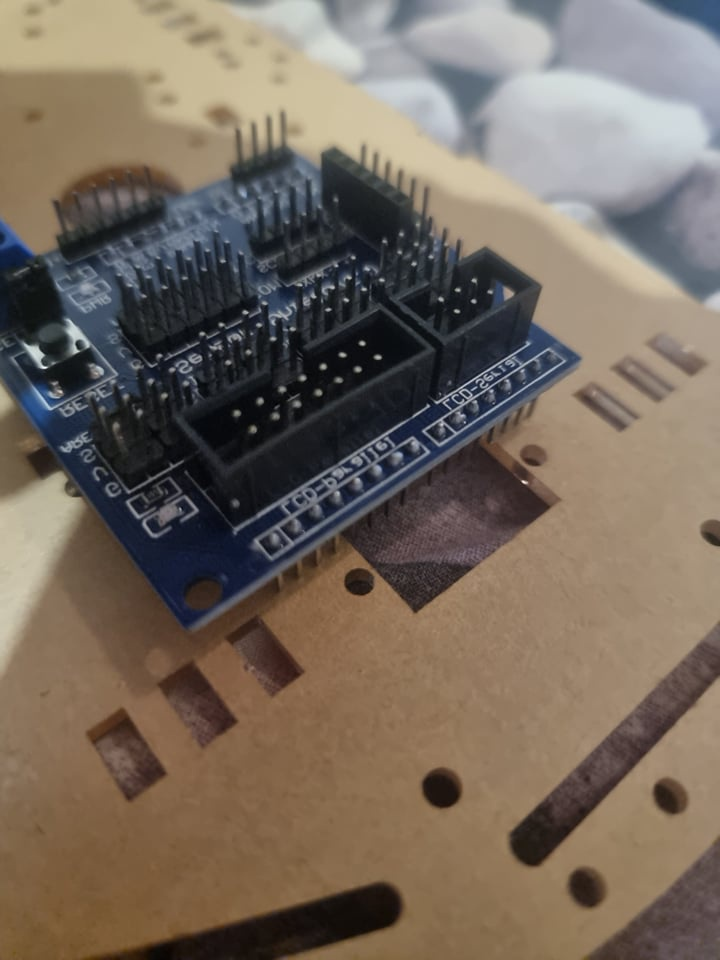5V EXPANSION: (0, 110, 581, 634)
